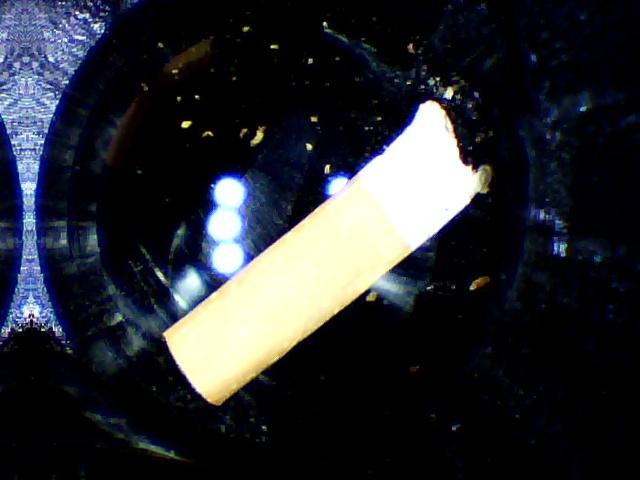megot: (153, 86, 501, 418)
